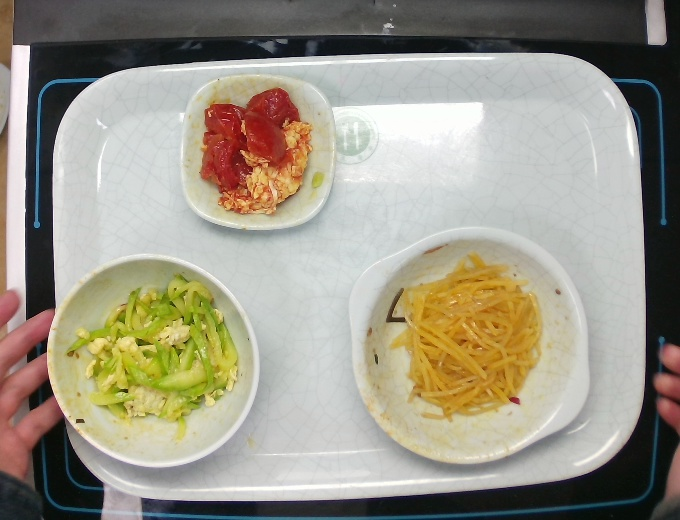JYsf-Fan_Wan: (37, 250, 266, 473)
JYsf-Shuang_Er_Wan: (347, 222, 595, 466)
JYsf-Si_Fang_Die: (175, 69, 342, 233)
